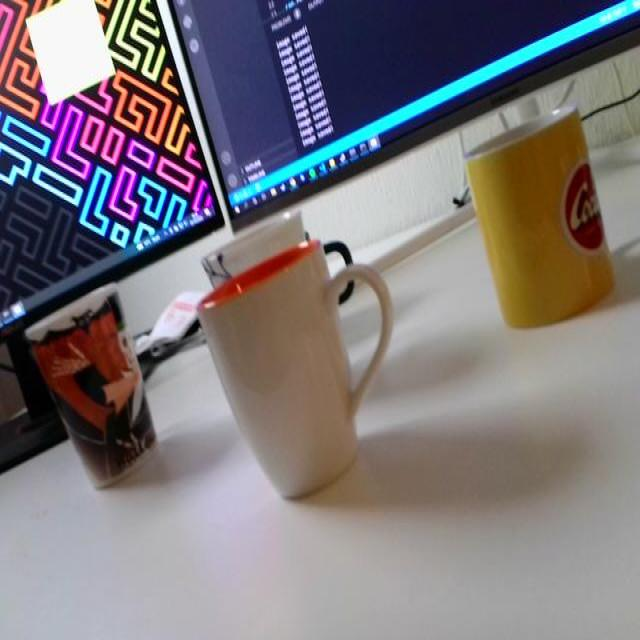cup: (188, 232, 400, 502), (460, 99, 621, 344), (22, 284, 168, 498)
